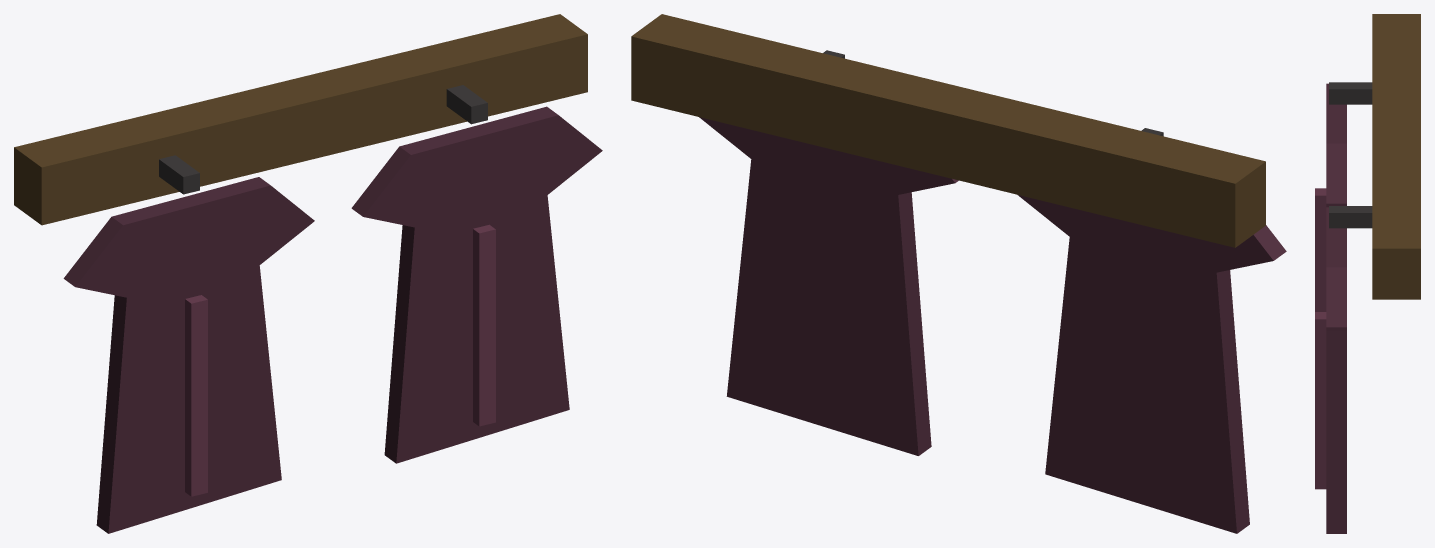
Rendered from wall_coats.glb.
3 views of the same model, side by side, from view 1: azimuth 30°, elevation 25°; view 2: azimuth 150°, elevation 25°; view 3: azimuth 270°, elevation 25° (orthographic). The views are drawn at different scales.
Visible parts, largest first — view 1: wall_coats; view 2: wall_coats; view 3: wall_coats.
Boxes of the visible parts, x1,y1,x2,y2 form: wall_coats: (14,14,602,533); wall_coats: (631,14,1286,533); wall_coats: (1315,14,1420,533).
Bounding box in the file's own units: 1.48 × 0.925 × 0.2825.
